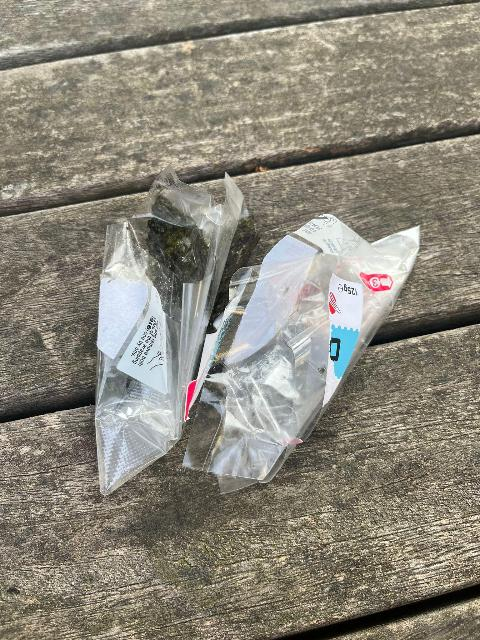Plastik: (192, 222, 425, 488), (100, 170, 233, 495)
